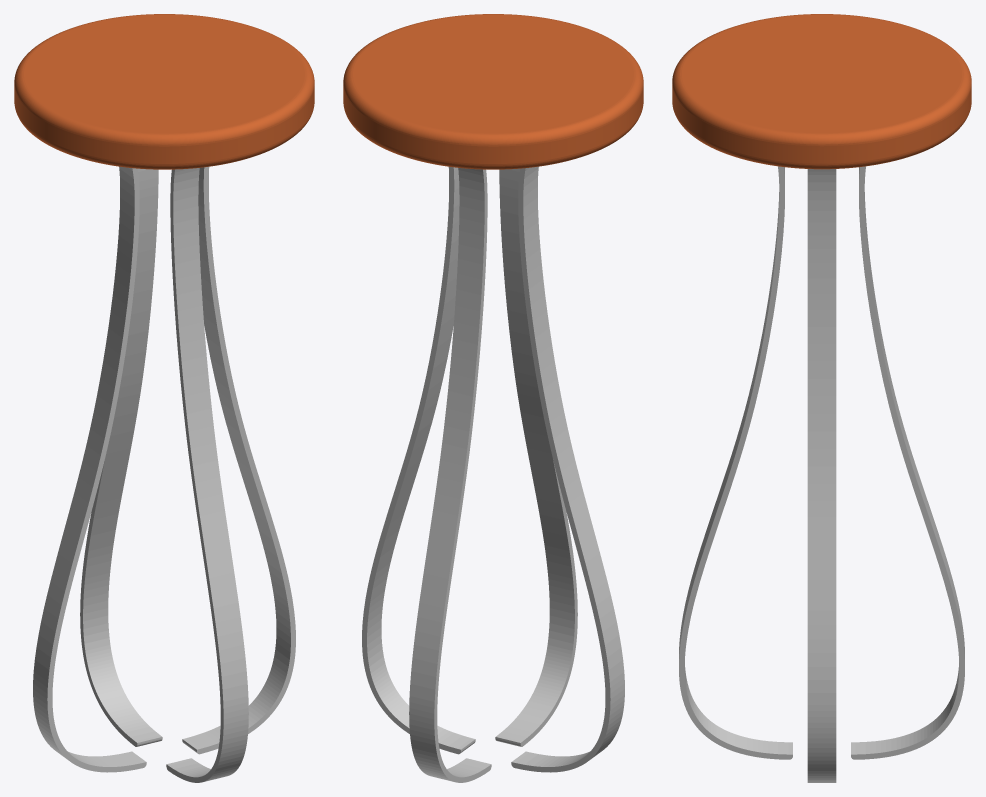
The model's file is stool.obj.
The picture shows the model from 3 angles, left to right: view 1: azimuth 30°, elevation 25°; view 2: azimuth 150°, elevation 25°; view 3: azimuth 270°, elevation 25°; orthographic projection.
Parts seen in each view (by area): view 1: Obj_000010, Obj_000006, Obj_000008, Obj_000007, Obj_000009; view 2: Obj_000010, Obj_000008, Obj_000006, Obj_000007, Obj_000009; view 3: Obj_000010, Obj_000009, Obj_000008, Obj_000006.
Boxes of the visible parts, left/top/right/bottom form: Obj_000010: left=14, top=14, right=314, bottom=169; Obj_000006: left=166, top=168, right=248, bottom=782; Obj_000008: left=80, top=168, right=162, bottom=746; Obj_000007: left=33, top=166, right=146, bottom=772; Obj_000009: left=182, top=166, right=295, bottom=754; Obj_000010: left=343, top=14, right=643, bottom=169; Obj_000008: left=409, top=168, right=491, bottom=782; Obj_000006: left=495, top=168, right=577, bottom=746; Obj_000007: left=511, top=166, right=624, bottom=772; Obj_000009: left=362, top=166, right=475, bottom=754; Obj_000010: left=672, top=14, right=971, bottom=169; Obj_000009: left=807, top=169, right=836, bottom=782; Obj_000008: left=851, top=166, right=964, bottom=759; Obj_000006: left=679, top=166, right=792, bottom=759.
Size of the model in its own units: 1.58 by 3.96 by 1.58.
